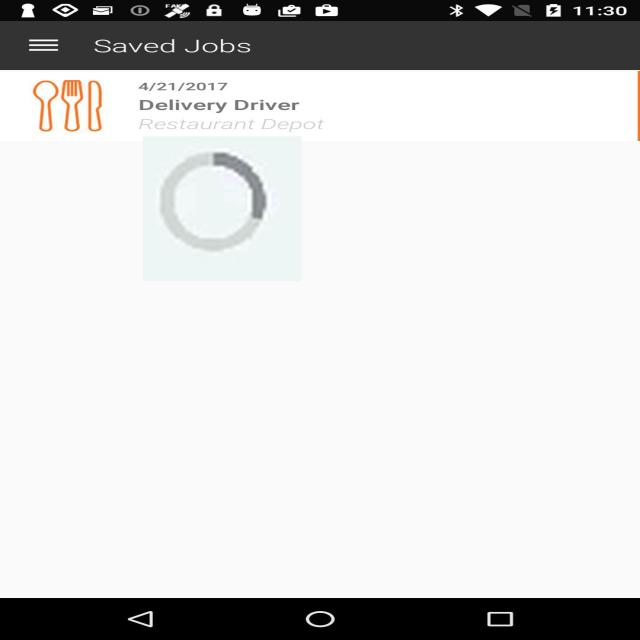misdirection: (142, 136, 302, 282)
